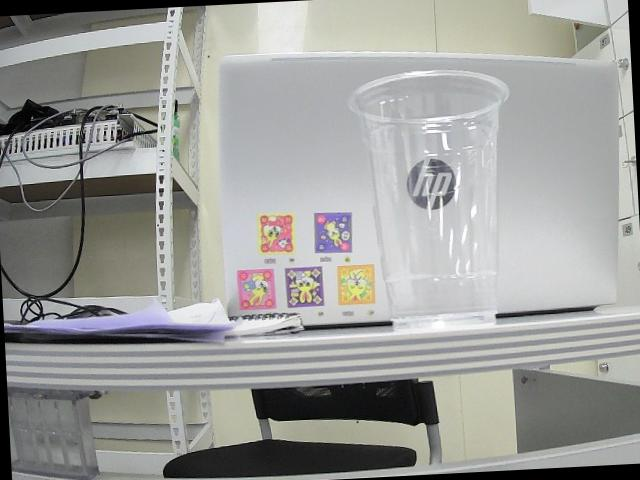Plastik: (349, 70, 509, 326)
